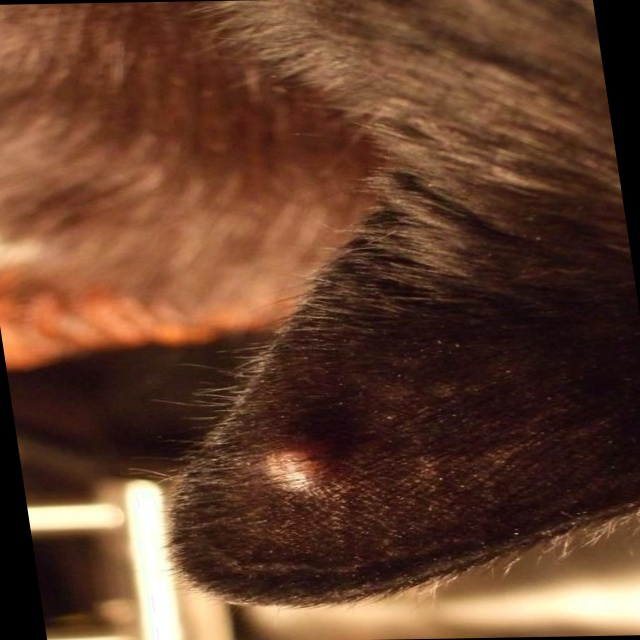lump_and_bump: (253, 431, 324, 492)
